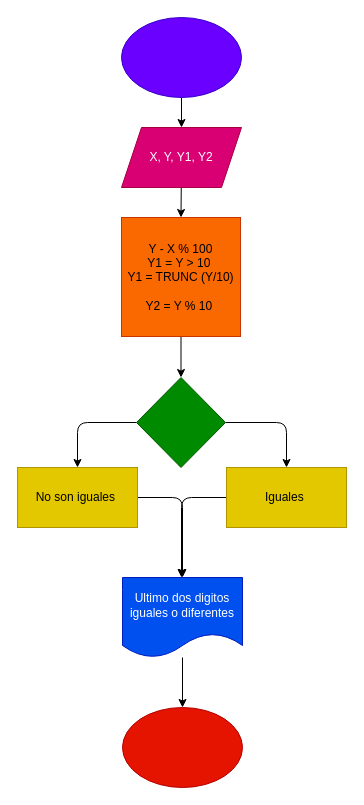
Some shapes in this 364 by 805 pixel diagram are drawn without their labels. Each missing label, with the box of its shape:
Fin: (122, 706, 242, 788)
Inicio: (120, 16, 242, 98)
Y1 = Y2: (136, 376, 226, 468)
